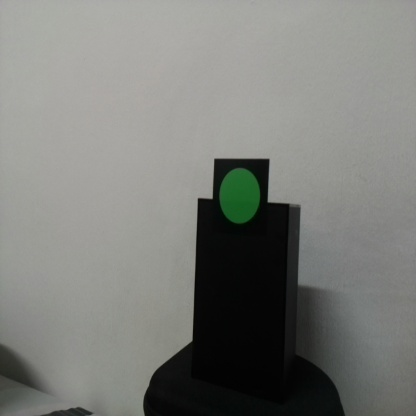id_5: (214, 158, 268, 243)
